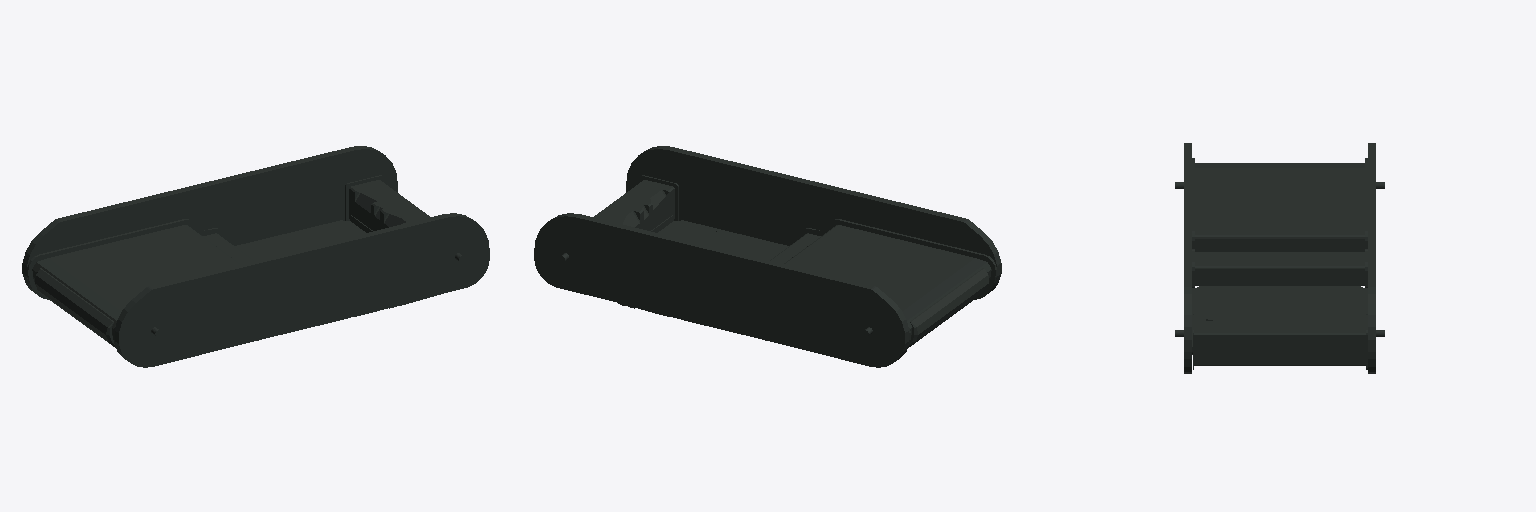
Rendered from gvrbot_body_complete.obj.
3 renders of one model, left to right at view 1: azimuth 30°, elevation 25°; view 2: azimuth 150°, elevation 25°; view 3: azimuth 270°, elevation 25°, orthographic.
Visible parts, largest first — view 1: Mesh17 Component_7_2 grbot_ChassisSide2 Body1 Model, Mesh12 Component_7_1 grbot_ChassisSide1 Body1 Model, Mesh3 Light_FasTac_Chassis_Chopped_STL1 centerlinebody1 Body1 Mo, Mesh11 Light_FasTac_Chassis_Chopped_STL_3_1 chassis_grbot1 cente, Mesh9 CenterShelf1 Light_FasTac_Chassis_Chopped_STL_3_1 chassis_, Mesh2 Component_1_2 Light_FasTac_Chassis_Chopped_STL1 centerline; view 2: Mesh12 Component_7_1 grbot_ChassisSide1 Body1 Model, Mesh17 Component_7_2 grbot_ChassisSide2 Body1 Model, Mesh3 Light_FasTac_Chassis_Chopped_STL1 centerlinebody1 Body1 Mo, Mesh11 Light_FasTac_Chassis_Chopped_STL_3_1 chassis_grbot1 cente, Mesh9 CenterShelf1 Light_FasTac_Chassis_Chopped_STL_3_1 chassis_, Mesh1 Component_1_1 Light_FasTac_Chassis_Chopped_STL1 centerline; view 3: Mesh3 Light_FasTac_Chassis_Chopped_STL1 centerlinebody1 Body1 Mo, Mesh11 Light_FasTac_Chassis_Chopped_STL_3_1 chassis_grbot1 cente, Mesh9 CenterShelf1 Light_FasTac_Chassis_Chopped_STL_3_1 chassis_, Mesh12 Component_7_1 grbot_ChassisSide1 Body1 Model, Mesh17 Component_7_2 grbot_ChassisSide2 Body1 Model, Mesh5 Component_2_1 CenterShelf1 Light_FasTac_Chassis_Chopped_ST.
Boxes of the visible parts, x1,y1,x2,y2 form: Mesh17 Component_7_2 grbot_ChassisSide2 Body1 Model: [115, 213, 489, 367]; Mesh12 Component_7_1 grbot_ChassisSide1 Body1 Model: [22, 146, 397, 299]; Mesh3 Light_FasTac_Chassis_Chopped_STL1 centerlinebody1 Body1 Mo: [32, 225, 253, 347]; Mesh11 Light_FasTac_Chassis_Chopped_STL_3_1 chassis_grbot1 cente: [345, 175, 429, 230]; Mesh9 CenterShelf1 Light_FasTac_Chassis_Chopped_STL_3_1 chassis_: [235, 220, 364, 259]; Mesh2 Component_1_2 Light_FasTac_Chassis_Chopped_STL1 centerline: [27, 219, 221, 298]; Mesh12 Component_7_1 grbot_ChassisSide1 Body1 Model: [534, 213, 908, 367]; Mesh17 Component_7_2 grbot_ChassisSide2 Body1 Model: [626, 146, 1001, 299]; Mesh3 Light_FasTac_Chassis_Chopped_STL1 centerlinebody1 Body1 Mo: [770, 225, 991, 347]; Mesh11 Light_FasTac_Chassis_Chopped_STL_3_1 chassis_grbot1 cente: [594, 175, 678, 230]; Mesh9 CenterShelf1 Light_FasTac_Chassis_Chopped_STL_3_1 chassis_: [659, 222, 785, 259]; Mesh1 Component_1_1 Light_FasTac_Chassis_Chopped_STL1 centerline: [802, 219, 996, 298]; Mesh3 Light_FasTac_Chassis_Chopped_STL1 centerlinebody1 Body1 Mo: [1195, 163, 1364, 285]; Mesh11 Light_FasTac_Chassis_Chopped_STL_3_1 chassis_grbot1 cente: [1193, 314, 1367, 369]; Mesh9 CenterShelf1 Light_FasTac_Chassis_Chopped_STL_3_1 chassis_: [1199, 287, 1366, 320]; Mesh12 Component_7_1 grbot_ChassisSide1 Body1 Model: [1368, 143, 1375, 373]; Mesh17 Component_7_2 grbot_ChassisSide2 Body1 Model: [1184, 143, 1191, 373]; Mesh5 Component_2_1 CenterShelf1 Light_FasTac_Chassis_Chopped_ST: [1199, 280, 1360, 285].
Bounding box in the file's own units: 0.6215 × 0.1241 × 0.3035.